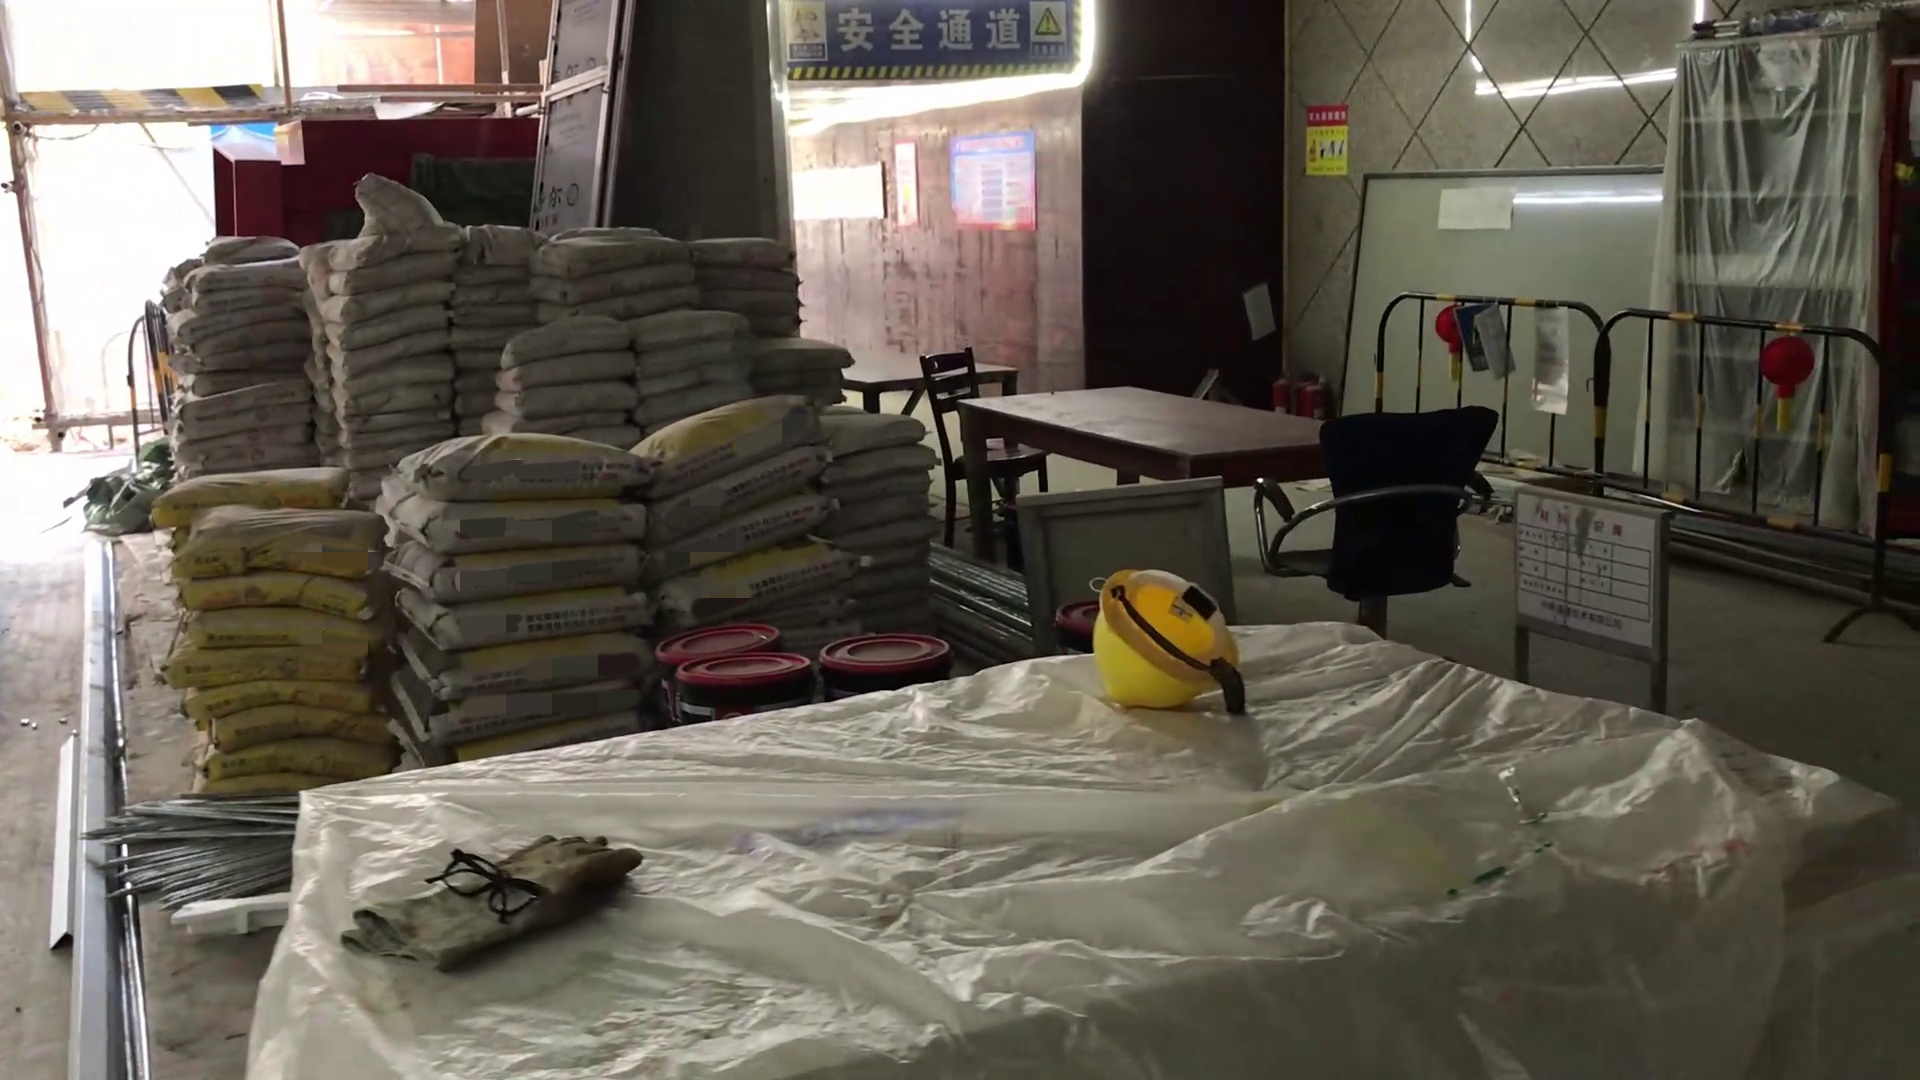fence: (1371, 278, 1894, 589)
helmet: (1087, 549, 1238, 708)
slogan: (779, 3, 1083, 88), (1302, 104, 1357, 170)
